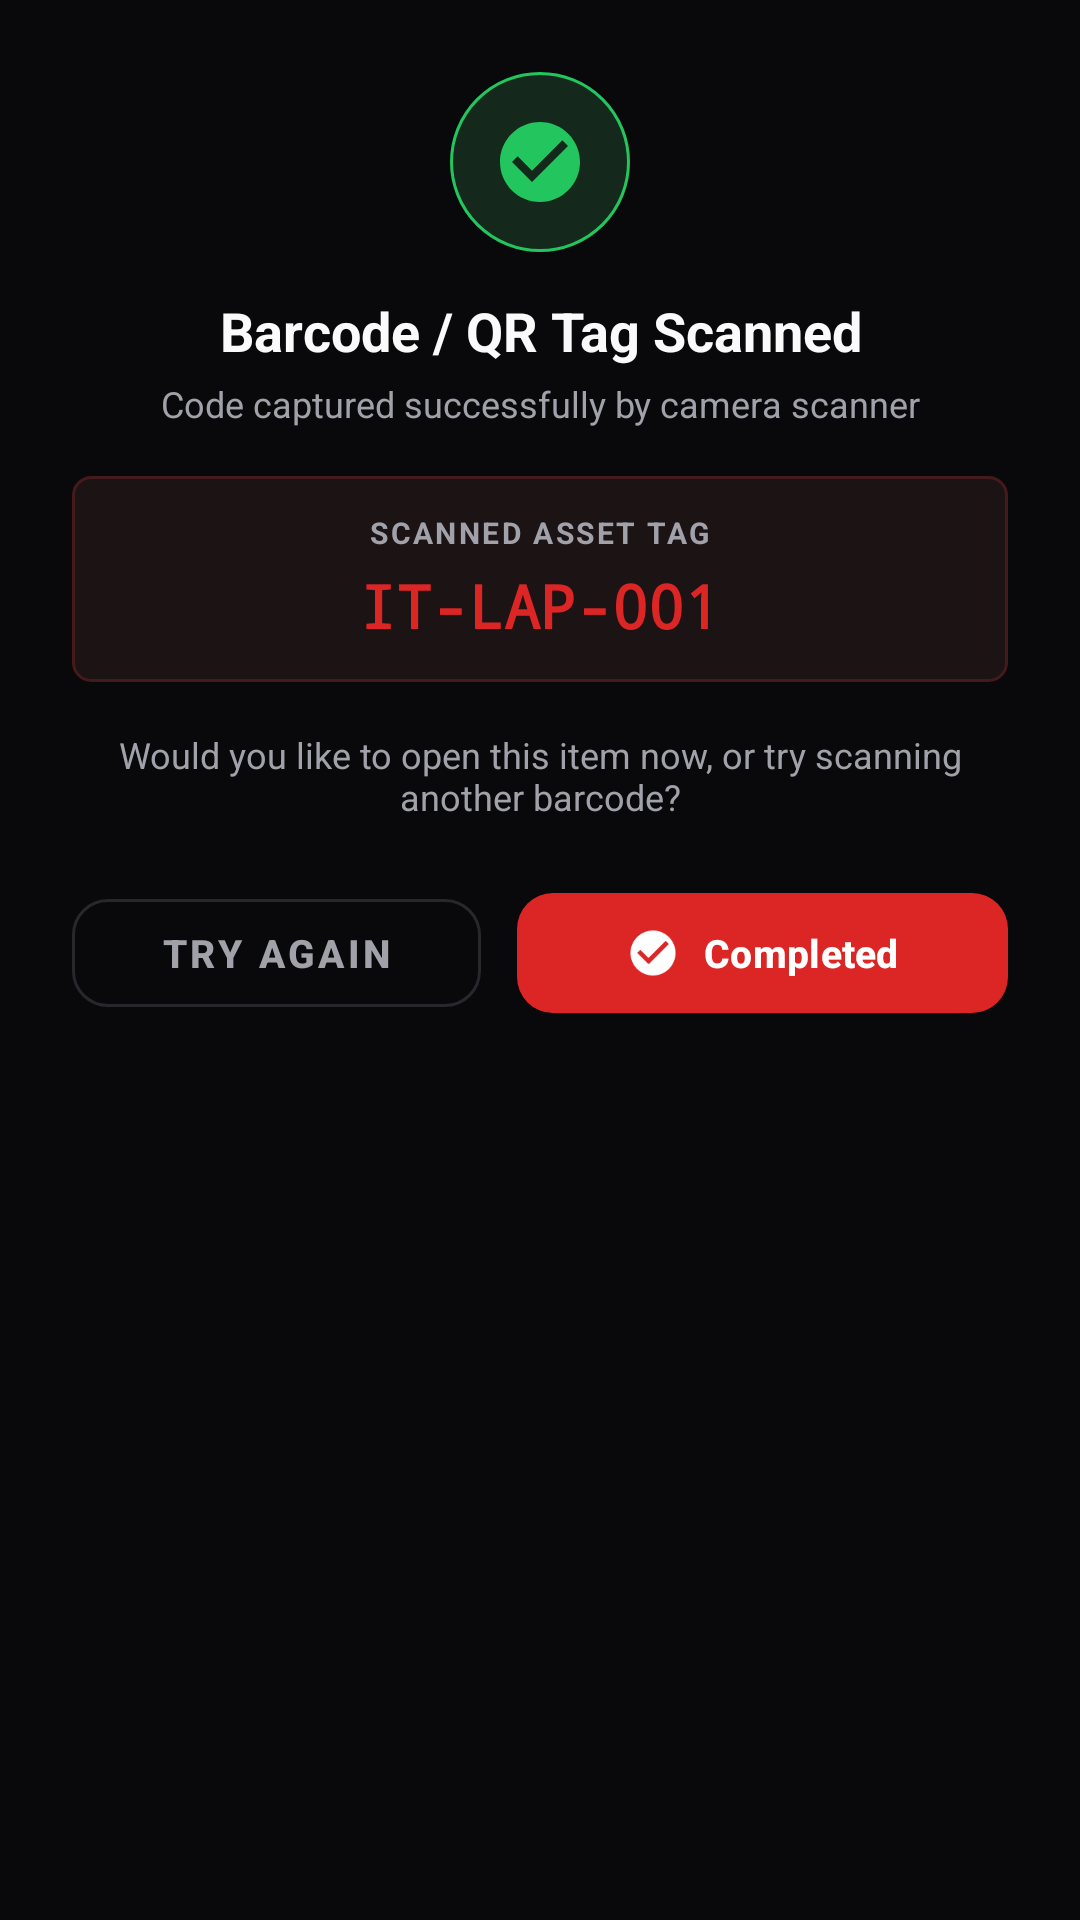

Where icons sit on this 1080 x 1920 app screen, as {"x1": x1, "y1": y1, "x2": x2, "y2": y2}:
check circle: {"x1": 500, "y1": 122, "x2": 580, "y2": 202}
